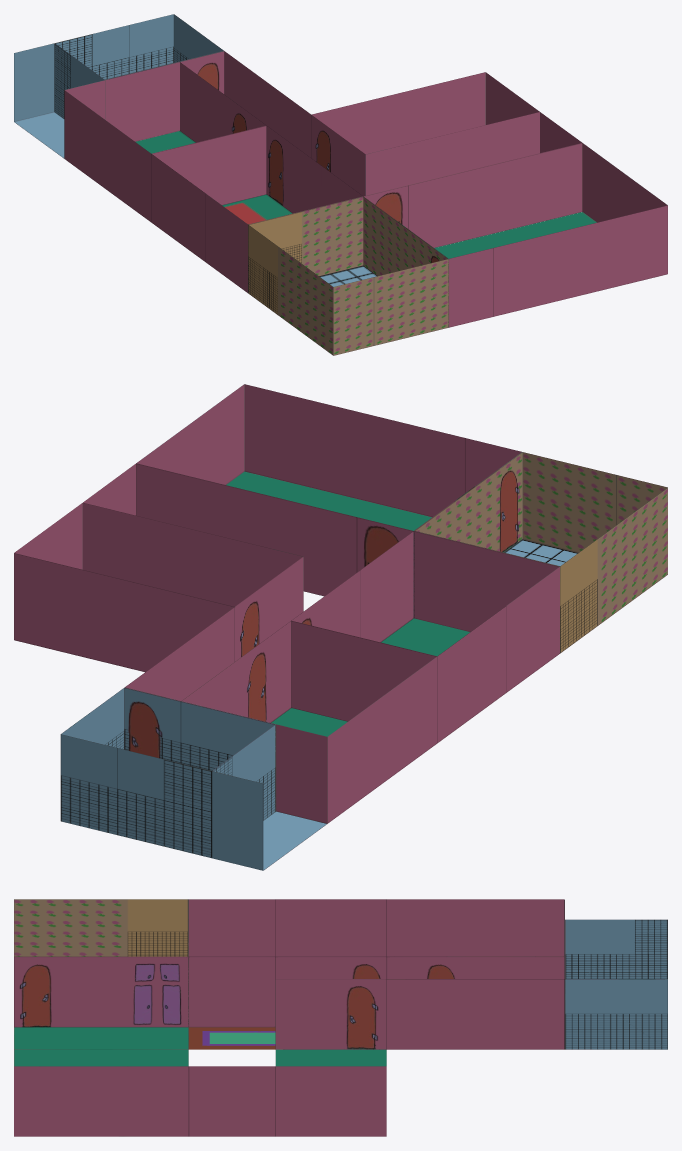
The model's file is PlantaAlta.obj.
The picture shows the model from 3 angles, top to bottom: view 1: azimuth 30°, elevation 25°; view 2: azimuth 150°, elevation 25°; view 3: azimuth 270°, elevation 25°; orthographic projection. The views are drawn at different scales.
Visible parts, largest first — view 1: Cube_Cube.009; view 2: Cube_Cube.009; view 3: Cube_Cube.009.
Boxes of the visible parts, box(x1,y1,x2,y2) form: Cube_Cube.009: box(14, 14, 667, 355); Cube_Cube.009: box(14, 384, 667, 870); Cube_Cube.009: box(14, 899, 667, 1136).
Size of the model in its own units: 129 by 25.35 by 213.
Materials: 1 (1 with a texture image).
